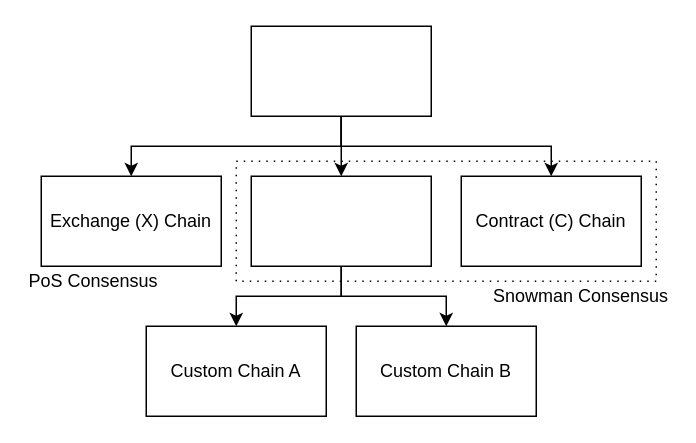
Image size: 696x443. Some labels were removed from this diagram. Here are the shapes that lost their labels. From the top down, the centre of each, then its label:
At (x=340, y=70): "Primary Network".
At (x=340, y=220): "Platform (P) Chain".
